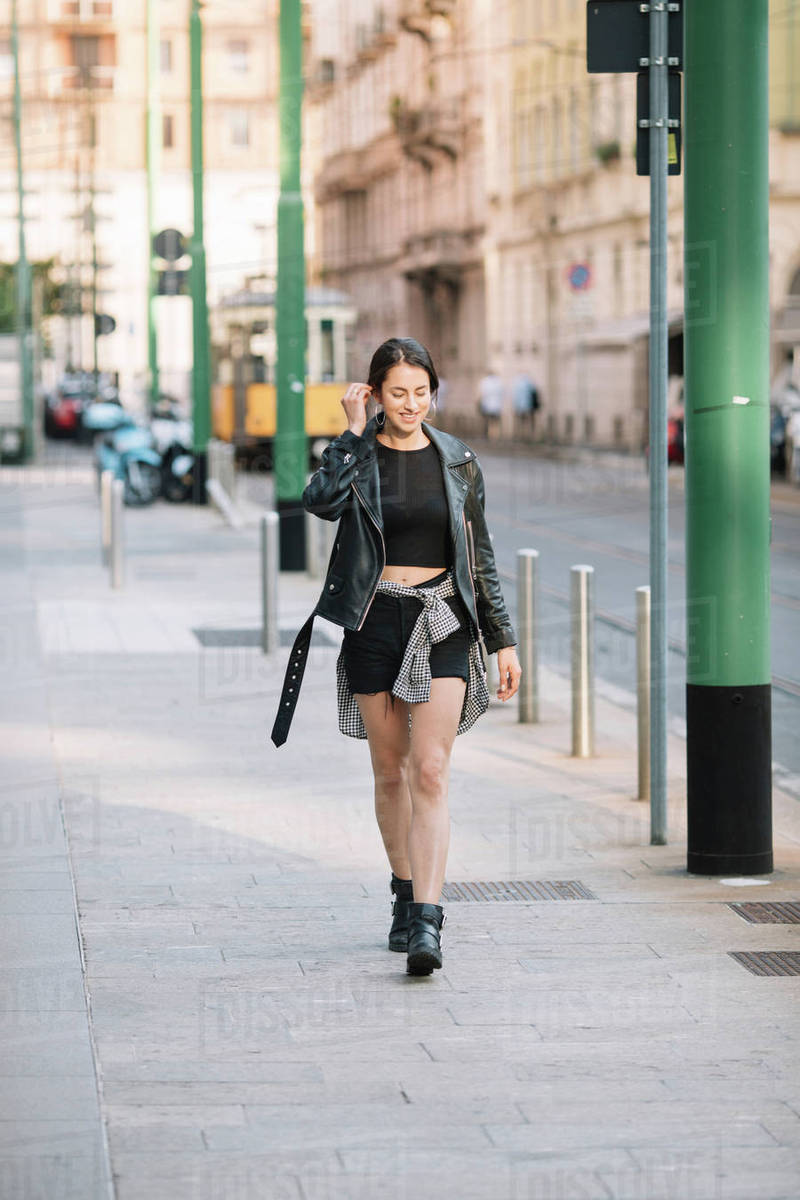person: (263, 330, 542, 981)
